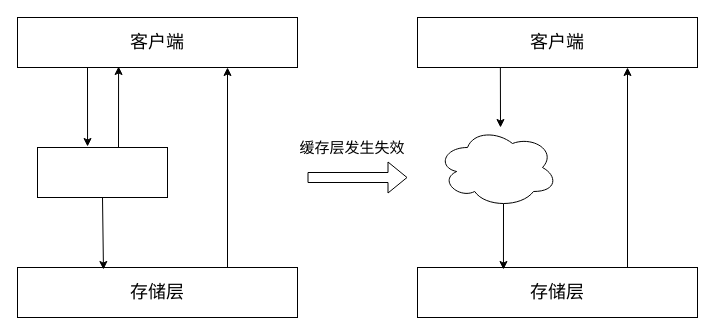
Image size: 715x335. Some labels were removed from this diagram. Each missing label, with the centre of its shape:
"crash" belongs at (x=497, y=167).
"缓存层" belongs at (x=102, y=172).
